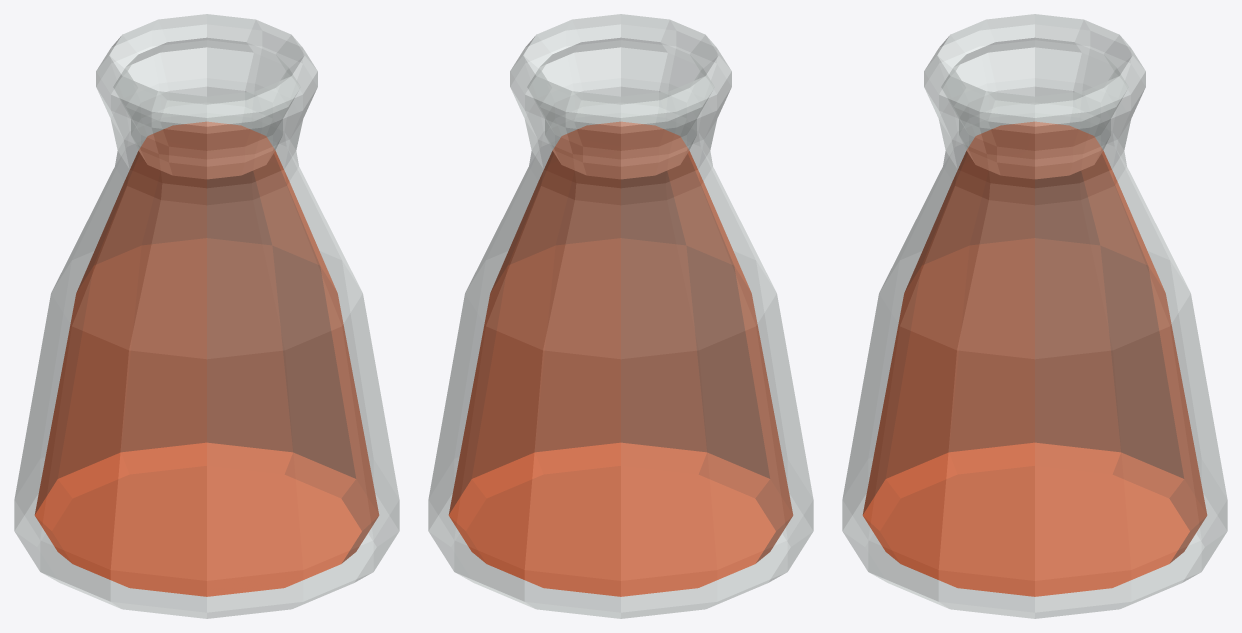
The model's file is flask.glb.
3 views of the same model, side by side, from view 1: azimuth 30°, elevation 25°; view 2: azimuth 150°, elevation 25°; view 3: azimuth 270°, elevation 25° (orthographic).
Parts seen in each view (by area): view 1: group2140934326; view 2: group2140934326; view 3: group2140934326.
Boxes of the visible parts, bbox=[...] form: group2140934326: bbox=[14, 14, 399, 618]; group2140934326: bbox=[428, 14, 813, 618]; group2140934326: bbox=[842, 14, 1227, 618].
Size of the model in its own units: 0.22 by 0.31 by 0.22.
